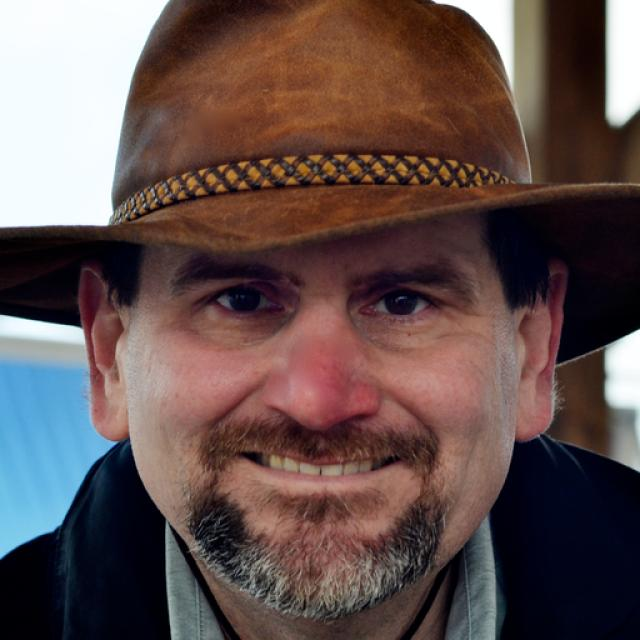Pigmentation: (295, 332, 375, 426)
